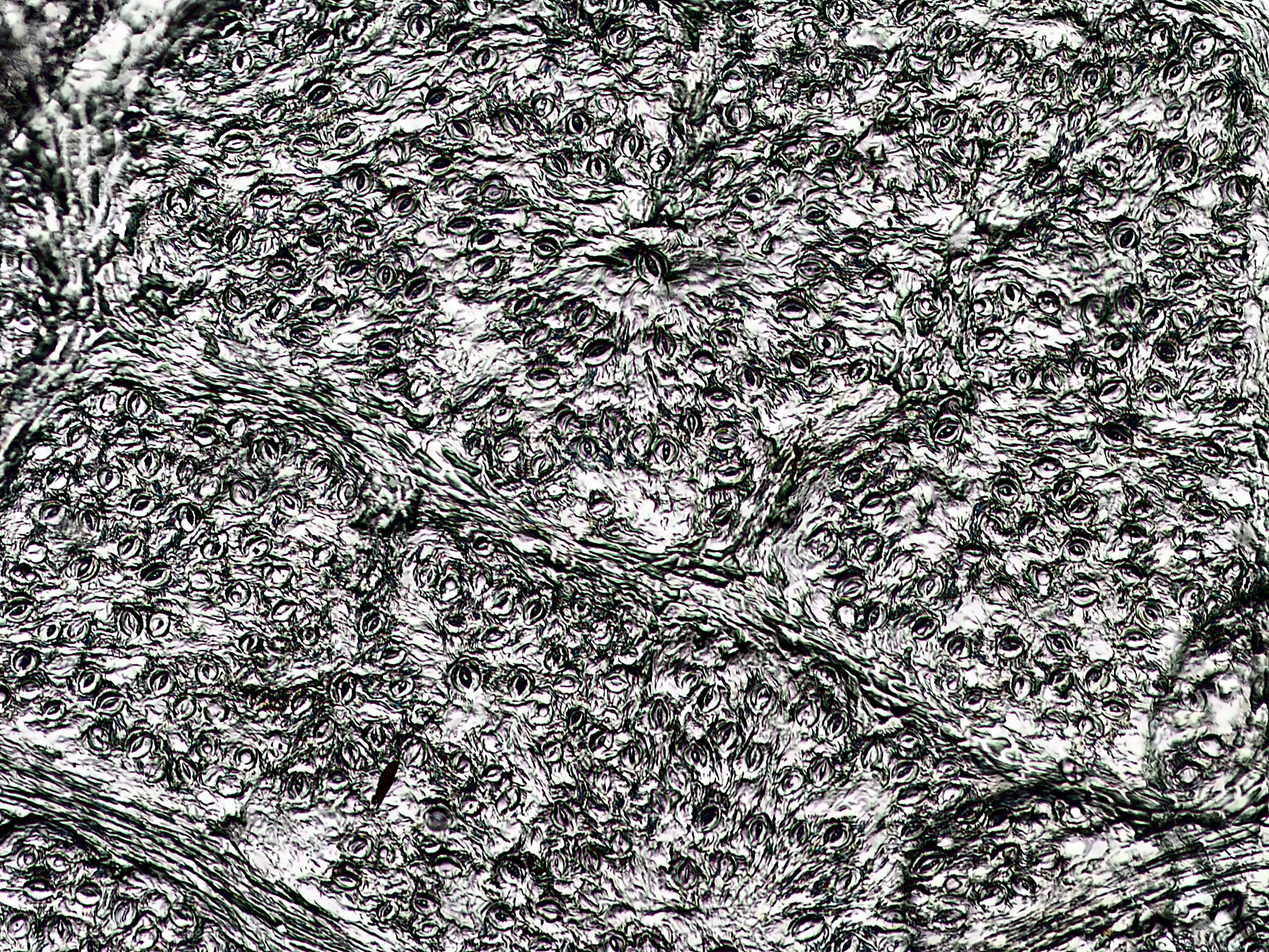stomata: (639, 248, 668, 289), (451, 660, 482, 695), (1212, 889, 1243, 924), (827, 866, 863, 896), (852, 530, 883, 564), (506, 665, 533, 703), (1160, 142, 1192, 174), (1110, 217, 1140, 251), (790, 912, 825, 941), (125, 726, 155, 759), (1097, 420, 1134, 446), (34, 498, 68, 526), (835, 574, 869, 602), (1197, 732, 1232, 759), (3, 909, 33, 940), (1006, 668, 1033, 702), (21, 876, 56, 902), (1044, 631, 1080, 656), (493, 432, 522, 463), (705, 155, 733, 187), (860, 735, 885, 770), (487, 900, 517, 929), (125, 388, 153, 419), (422, 805, 453, 833), (931, 417, 962, 445), (64, 422, 91, 454), (810, 525, 837, 557), (1068, 581, 1101, 607), (331, 668, 354, 705), (912, 852, 946, 877), (824, 821, 852, 851), (993, 636, 1028, 660), (226, 49, 257, 76), (140, 563, 171, 590), (1180, 580, 1207, 611), (1018, 415, 1056, 437), (0, 596, 33, 621), (777, 295, 810, 320), (1087, 294, 1112, 327), (1161, 234, 1195, 258), (69, 552, 97, 581), (1200, 79, 1228, 108), (992, 478, 1021, 506), (810, 757, 836, 788), (989, 107, 1015, 138), (911, 294, 942, 320), (177, 501, 201, 534), (763, 68, 787, 101), (825, 707, 849, 740), (346, 167, 373, 196), (126, 490, 155, 517), (727, 99, 754, 128), (844, 54, 871, 83), (1081, 662, 1110, 689), (467, 561, 490, 595), (1211, 49, 1241, 75), (861, 492, 892, 517), (1118, 283, 1140, 318), (751, 682, 775, 714), (933, 757, 965, 781), (967, 38, 991, 70), (1095, 379, 1127, 403), (305, 27, 333, 54), (540, 149, 567, 177), (933, 909, 969, 930), (1137, 598, 1165, 625), (404, 278, 433, 304), (1072, 249, 1101, 275), (818, 137, 848, 162), (794, 699, 819, 729), (990, 842, 1020, 867), (1226, 174, 1251, 204), (841, 464, 871, 489), (945, 633, 975, 658), (1175, 761, 1205, 786), (713, 461, 747, 483), (526, 368, 557, 392), (479, 627, 510, 651), (974, 326, 1005, 350), (1103, 331, 1130, 358), (62, 612, 90, 638), (11, 648, 39, 674), (527, 699, 553, 727), (938, 782, 964, 810), (999, 279, 1025, 307), (424, 154, 457, 176), (368, 337, 401, 359), (584, 339, 613, 364), (848, 356, 873, 385), (808, 78, 832, 108), (1207, 294, 1237, 318), (217, 132, 251, 153), (135, 448, 158, 479), (546, 848, 568, 880), (522, 323, 549, 349), (499, 858, 525, 885), (826, 0, 853, 26), (1190, 31, 1216, 58), (307, 457, 335, 482), (226, 580, 251, 608), (608, 23, 636, 48), (812, 331, 840, 356), (234, 743, 258, 772), (651, 436, 675, 465), (896, 784, 929, 805), (499, 105, 522, 135), (956, 800, 986, 823), (1111, 60, 1134, 90), (747, 816, 769, 847), (1068, 104, 1090, 135), (1218, 224, 1249, 246), (655, 326, 675, 360), (391, 191, 417, 217), (93, 465, 119, 491), (1164, 59, 1190, 85), (265, 296, 290, 323), (341, 256, 368, 281), (588, 154, 613, 181), (721, 67, 748, 92), (805, 48, 830, 75), (987, 805, 1012, 832), (931, 107, 956, 134), (1079, 176, 1104, 203), (1017, 512, 1042, 539), (1044, 664, 1071, 689), (482, 181, 510, 205), (7, 564, 39, 585), (120, 606, 141, 638), (47, 915, 71, 943), (244, 534, 272, 558), (589, 728, 613, 756), (865, 267, 893, 291), (190, 176, 219, 199), (87, 725, 110, 754), (552, 672, 581, 695), (531, 90, 554, 119), (685, 741, 708, 770), (531, 238, 564, 258), (651, 698, 671, 731), (703, 389, 733, 411), (699, 684, 721, 714), (1154, 199, 1184, 221), (1186, 379, 1216, 401), (298, 202, 329, 223), (376, 367, 407, 388), (553, 802, 574, 833), (1128, 128, 1149, 159), (202, 532, 227, 558), (695, 806, 721, 831), (713, 426, 739, 451), (1147, 22, 1172, 48), (889, 552, 914, 578), (307, 82, 334, 106), (409, 13, 433, 40), (388, 675, 415, 699), (538, 898, 565, 922), (1115, 662, 1139, 689), (181, 40, 209, 63), (150, 667, 173, 695), (174, 757, 197, 785), (415, 560, 438, 588), (878, 932, 910, 952), (226, 225, 248, 254), (223, 285, 245, 314), (545, 642, 567, 671), (647, 145, 669, 174), (1152, 341, 1181, 363), (1064, 540, 1093, 562), (290, 326, 320, 347), (149, 610, 170, 640), (1039, 710, 1069, 731), (721, 215, 754, 234), (1029, 457, 1062, 476), (912, 615, 937, 640), (311, 295, 337, 319), (170, 901, 194, 927), (312, 717, 336, 743), (435, 855, 461, 879), (1032, 166, 1058, 190), (1096, 155, 1122, 179), (47, 460, 70, 487), (264, 564, 291, 587), (807, 371, 834, 394), (1083, 65, 1106, 92), (1209, 345, 1236, 368), (1144, 676, 1171, 699), (292, 134, 323, 154), (622, 129, 642, 160), (14, 311, 42, 333), (595, 87, 617, 115), (889, 761, 917, 783), (290, 356, 319, 377), (115, 898, 136, 927), (523, 597, 544, 626), (741, 363, 762, 392), (1213, 320, 1242, 341), (839, 235, 871, 254), (250, 188, 280, 208), (473, 46, 498, 70), (519, 13, 543, 38), (448, 216, 478, 236), (513, 292, 537, 317), (578, 842, 598, 872), (794, 19, 819, 43), (717, 721, 737, 751), (1044, 63, 1064, 93), (990, 143, 1014, 168), (963, 138, 983, 168), (1036, 289, 1061, 313), (920, 574, 944, 599), (231, 479, 254, 505), (194, 660, 217, 686), (487, 590, 513, 613), (1200, 135, 1223, 161), (75, 882, 102, 904), (412, 892, 439, 914), (1121, 631, 1154, 649), (177, 454, 196, 485), (266, 260, 294, 281), (29, 441, 57, 462), (611, 832, 632, 860), (900, 819, 928, 840), (1122, 522, 1150, 543), (1103, 699, 1132, 719), (591, 495, 615, 519), (864, 606, 888, 630), (277, 490, 300, 515), (363, 611, 388, 634), (248, 687, 273, 710), (291, 689, 314, 714), (362, 720, 385, 745), (312, 541, 335, 566), (999, 43, 1022, 68), (1170, 305, 1195, 328), (1143, 378, 1168, 401), (473, 229, 499, 251), (215, 774, 241, 796), (404, 742, 426, 768), (603, 926, 625, 952), (438, 573, 460, 599), (440, 611, 466, 633), (604, 672, 630, 694), (677, 859, 699, 885), (777, 769, 803, 791), (1166, 102, 1188, 128), (1070, 499, 1096, 521), (961, 689, 987, 711), (790, 819, 809, 849), (1169, 469, 1199, 488), (574, 302, 595, 329), (577, 436, 598, 463), (1240, 131, 1261, 158), (707, 504, 734, 525), (370, 72, 390, 100), (93, 697, 128, 713), (46, 851, 74, 871), (333, 870, 361, 890), (926, 166, 946, 194), (190, 226, 214, 249), (449, 116, 472, 140), (172, 697, 195, 721), (936, 21, 960, 44), (692, 352, 716, 375), (971, 294, 995, 317), (1013, 366, 1036, 390), (339, 477, 358, 506), (1010, 233, 1039, 252), (1113, 562, 1142, 581), (336, 123, 361, 145), (479, 730, 504, 752), (711, 329, 736, 351), (981, 515, 1003, 540), (426, 88, 452, 109), (272, 735, 293, 761), (566, 707, 587, 733), (728, 7, 754, 28), (980, 884, 1006, 905), (1236, 86, 1253, 118), (376, 264, 396, 291), (78, 507, 98, 534), (598, 410, 618, 437), (1142, 305, 1162, 332), (350, 219, 378, 238), (291, 772, 310, 800), (622, 741, 641, 769), (273, 598, 296, 621), (788, 352, 811, 375), (77, 670, 99, 694), (747, 741, 763, 774), (1042, 367, 1064, 391), (997, 581, 1021, 603), (906, 112, 923, 143), (473, 257, 498, 278), (718, 852, 736, 881), (1028, 99, 1046, 128), (260, 105, 286, 125), (344, 835, 370, 855), (568, 112, 588, 138), (836, 932, 862, 952), (260, 438, 279, 465), (935, 50, 954, 77), (798, 262, 828, 279), (1196, 442, 1226, 459), (1130, 501, 1160, 518), (543, 741, 565, 764), (899, 0, 922, 22), (1013, 875, 1036, 897), (300, 234, 324, 255), (385, 137, 403, 165), (193, 424, 217, 445), (239, 632, 260, 656), (378, 899, 399, 923), (473, 533, 494, 557), (632, 424, 650, 452), (195, 732, 215, 757), (870, 192, 895, 212), (896, 729, 921, 749), (414, 918, 440, 937), (1050, 212, 1077, 230), (1218, 397, 1245, 415), (490, 401, 514, 421), (23, 542, 47, 562), (186, 570, 210, 590), (299, 621, 319, 645), (1154, 932, 1178, 952), (17, 679, 42, 698), (342, 741, 361, 766), (1174, 275, 1199, 294), (634, 47, 660, 65), (1192, 505, 1221, 521), (200, 476, 222, 497), (380, 844, 401, 866), (741, 187, 763, 208), (530, 455, 552, 476), (554, 411, 576, 432), (1053, 477, 1076, 497), (682, 410, 699, 437), (227, 414, 245, 439), (961, 544, 986, 562), (379, 649, 407, 665), (119, 535, 139, 557), (19, 846, 39, 868), (530, 936, 557, 952), (1213, 257, 1237, 275), (463, 0, 489, 16), (811, 170, 835, 187), (38, 620, 58, 640), (42, 702, 65, 719), (910, 54, 933, 71), (805, 208, 826, 226), (1076, 356, 1094, 377), (481, 764, 503, 781), (78, 936, 101, 952), (325, 771, 348, 787), (1076, 714, 1093, 735), (419, 838, 442, 853), (462, 799, 481, 817), (1173, 525, 1188, 547), (508, 784, 520, 811), (767, 161, 785, 176), (496, 792, 508, 813)
